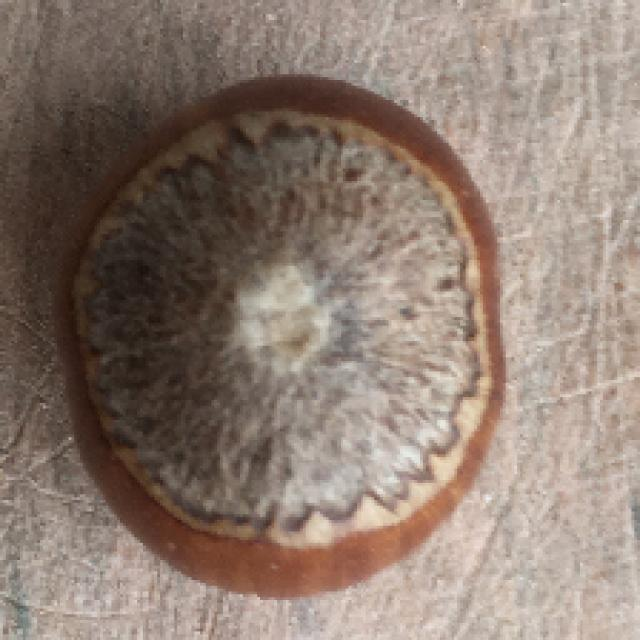qualityHazelnut: (50, 68, 507, 600)
